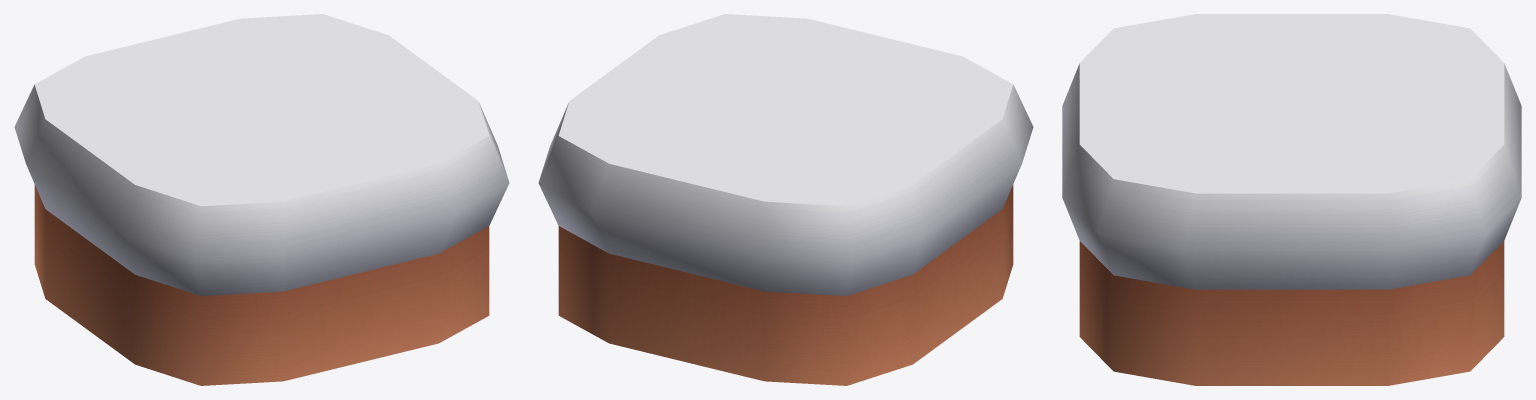
The model's file is block-snow-low.glb.
3 renders of one model, left to right at view 1: azimuth 30°, elevation 25°; view 2: azimuth 150°, elevation 25°; view 3: azimuth 270°, elevation 25°, orthographic. The views are drawn at different scales.
Parts seen in each view (by area): view 1: block-snow-low; view 2: block-snow-low; view 3: block-snow-low.
Boxes of the visible parts, x1=… form: block-snow-low: x1=14, y1=14, x2=509, y2=385; block-snow-low: x1=538, y1=14, x2=1033, y2=385; block-snow-low: x1=1062, y1=14, x2=1521, y2=385.
Bounding box in the file's own units: 1.08 × 0.5 × 1.08.
1 material, 1 textured.
